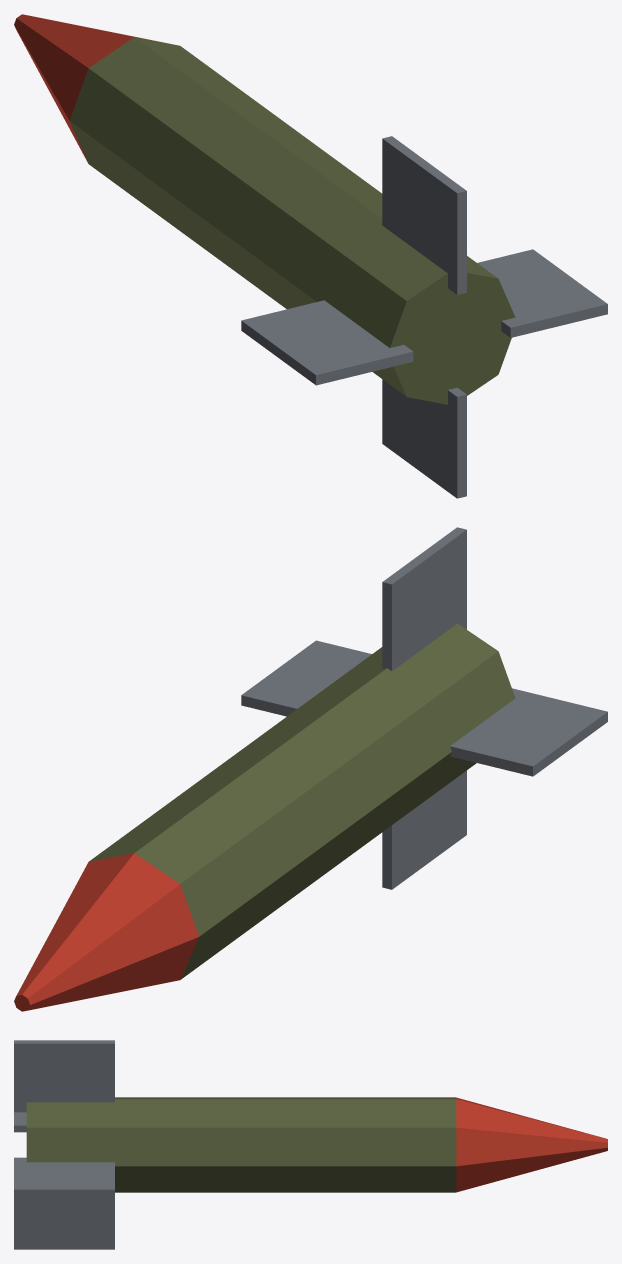
The model's file is w_rocket.glb.
3 views of the same model, one above another, from view 1: azimuth 30°, elevation 25°; view 2: azimuth 150°, elevation 25°; view 3: azimuth 270°, elevation 25° (orthographic). The views are drawn at different scales.
Visible parts, largest first — view 1: w_rocket; view 2: w_rocket; view 3: w_rocket.
Part boxes in pixels (bbox=[...]): w_rocket: bbox=[14, 14, 607, 498]; w_rocket: bbox=[14, 527, 607, 1011]; w_rocket: bbox=[14, 1040, 607, 1249].
Size of the model in its own units: 0.18 by 0.18 by 0.47.
